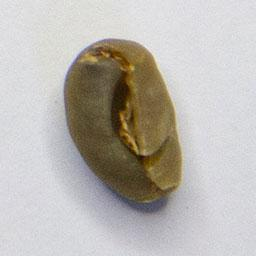premium: (61, 36, 185, 206)
